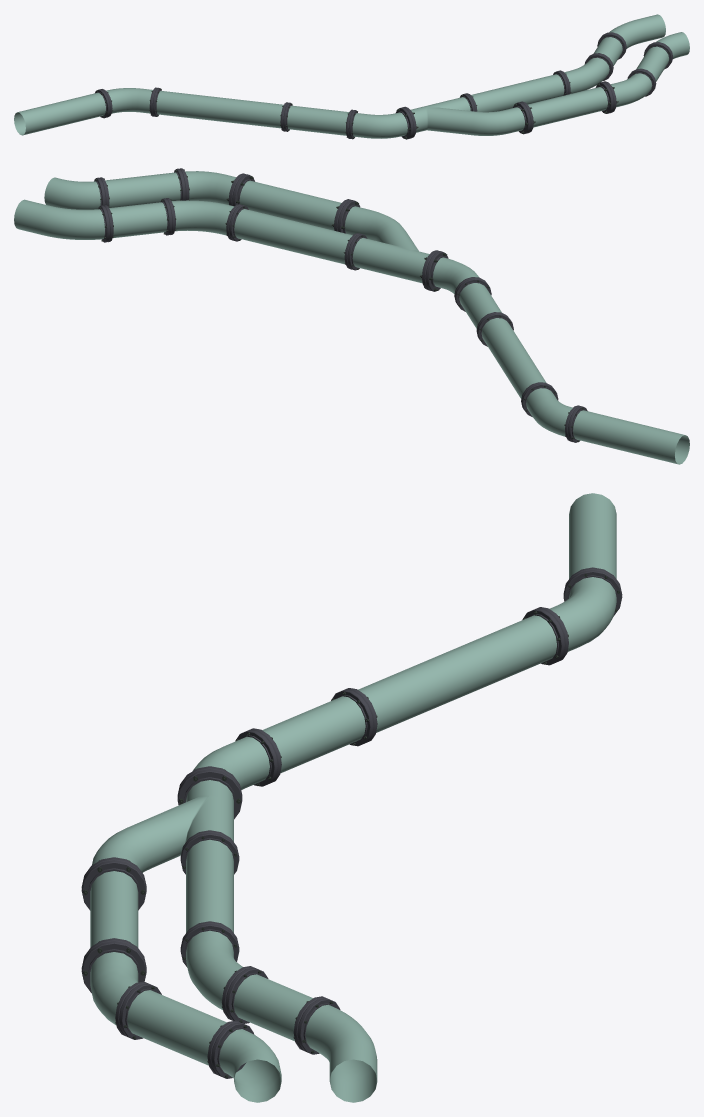
Rendered from PipeComplexLarge_A2_15.fbx.
The picture shows the model from 3 angles, top to bottom: view 1: azimuth 30°, elevation 25°; view 2: azimuth 150°, elevation 25°; view 3: azimuth 270°, elevation 25°; orthographic projection. The views are drawn at different scales.
Parts seen in each view (by area): view 1: PipeComplexLarge_A2_15.001; view 2: PipeComplexLarge_A2_15.001; view 3: PipeComplexLarge_A2_15.001.
Part boxes in pixels (left/top/right/bottom): PipeComplexLarge_A2_15.001: left=14, top=14, right=689, bottom=139; PipeComplexLarge_A2_15.001: left=14, top=168, right=689, bottom=464; PipeComplexLarge_A2_15.001: left=81, top=493, right=622, bottom=1102.
Bounding box in the file's own units: 5.6 × 0.2712 × 2.26.
